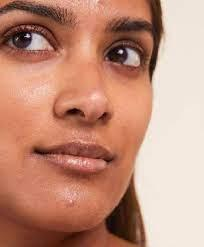Oily-Skin: (23, 12, 125, 247)
acne marks: (55, 178, 79, 212)
